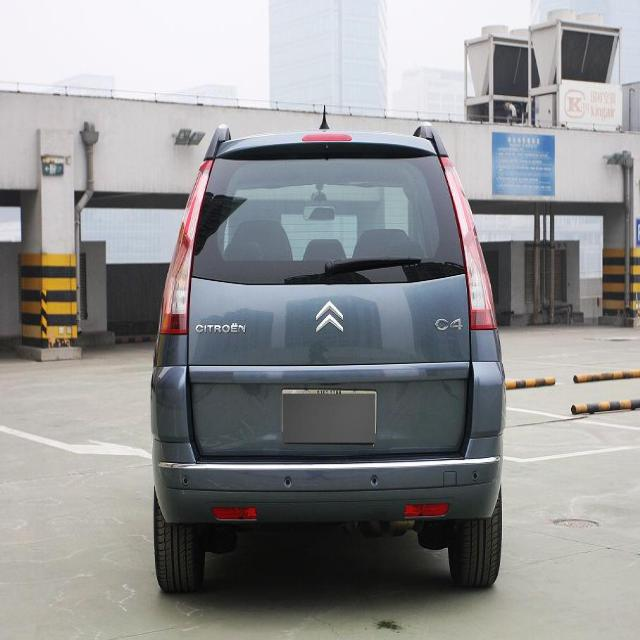back_glass: (189, 144, 466, 286)
back_left_side_light: (158, 158, 214, 336)
back_right_side_light: (437, 154, 498, 332)
rear_bumper: (150, 434, 505, 526)
wheel: (446, 479, 502, 589), (153, 487, 207, 596)
